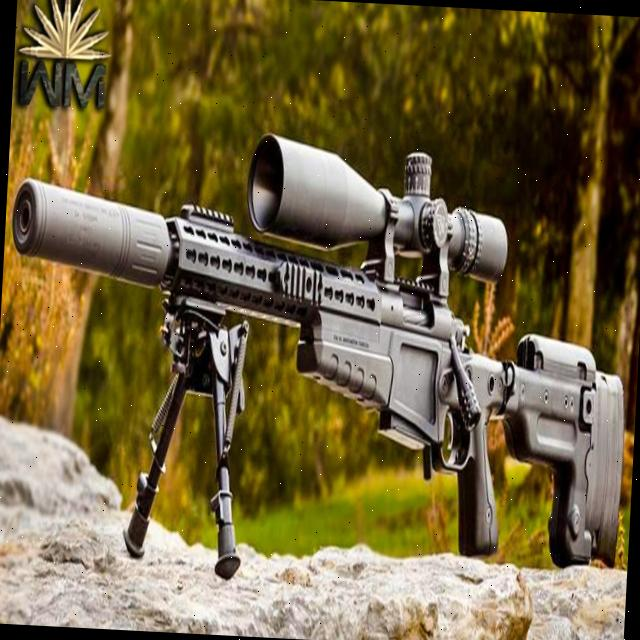Sniper: (3, 174, 599, 556)
